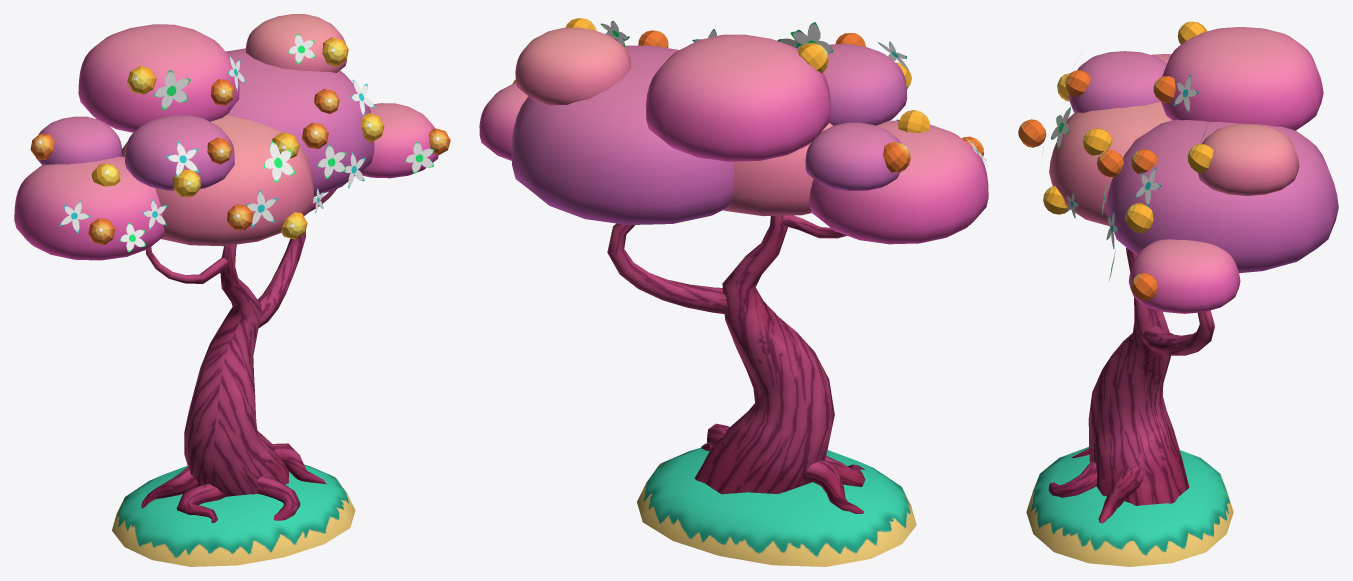
File: TreeL_002.fbx
3 renders of one model, left to right at view 1: azimuth 30°, elevation 25°; view 2: azimuth 150°, elevation 25°; view 3: azimuth 270°, elevation 25°, orthographic. The views are drawn at different scales.
Visible parts, largest first — view 1: tree1; view 2: tree1; view 3: tree1.
Part boxes in pixels (x1,y1,x2,y2): tree1: (14,14,450,566); tree1: (479,18,988,566); tree1: (1018,21,1338,566).
Size of the model in its own units: 10.11 by 10.5 by 6.56.
Materials: 1 (1 with a texture image).
